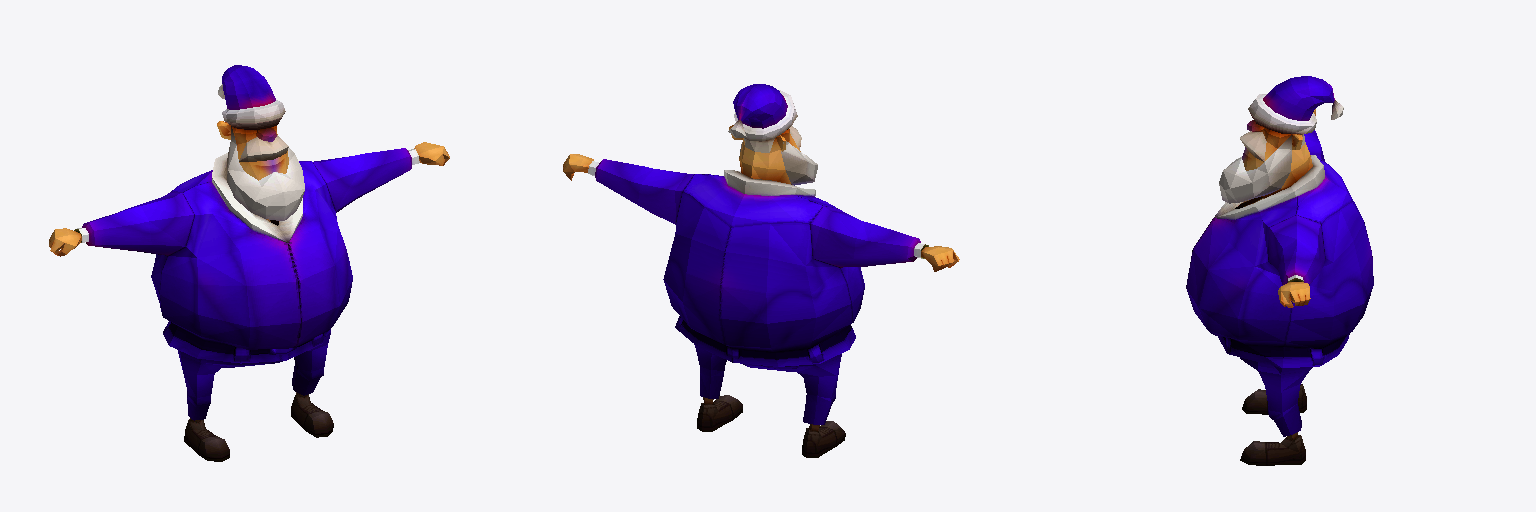
3 renders of one model, left to right at view 1: azimuth 30°, elevation 25°; view 2: azimuth 150°, elevation 25°; view 3: azimuth 270°, elevation 25°, orthographic.
Parts seen in each view (by area): view 1: default.003; view 2: default.003; view 3: default.003.
Part boxes in pixels (bbox=[...]): default.003: bbox=[49, 65, 449, 461]; default.003: bbox=[563, 84, 959, 457]; default.003: bbox=[1186, 76, 1373, 465].
Bounding box in the file's own units: 0.3949 × 0.3415 × 0.1621.
Materials: 1 (1 with a texture image).